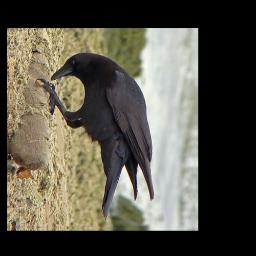Crow: (31, 52, 158, 222)
